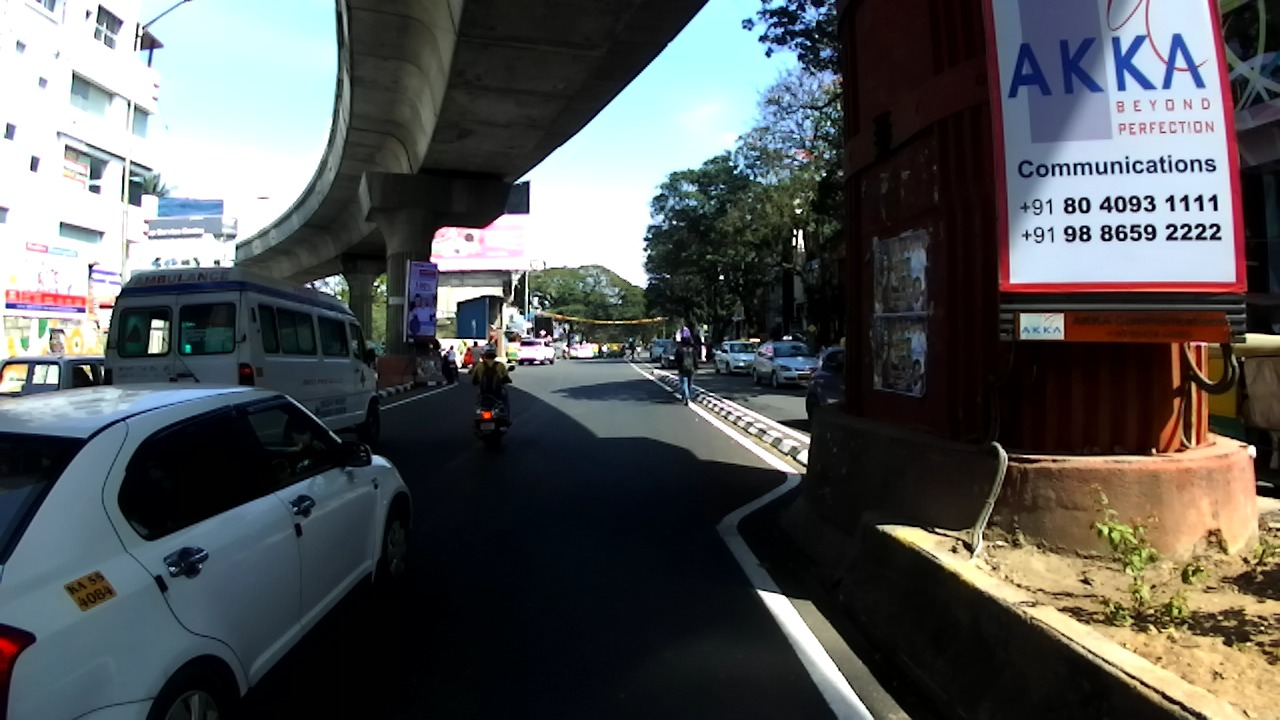autorickshaw: (1198, 334, 1278, 480), (505, 341, 521, 364), (608, 343, 620, 359), (590, 343, 600, 358)
bicycle: (637, 351, 640, 358)
bus: (104, 266, 382, 456)
car: (1, 383, 415, 719), (1, 355, 111, 408), (805, 345, 849, 432), (750, 340, 822, 389), (714, 341, 758, 376), (516, 338, 555, 366), (661, 341, 688, 370), (461, 342, 492, 367), (651, 339, 674, 363), (577, 346, 595, 360)
motorcycle: (471, 363, 515, 451), (443, 355, 459, 384)
person: (676, 336, 699, 406), (467, 341, 485, 377), (625, 339, 639, 362), (678, 336, 686, 353)
rider: (470, 344, 511, 421), (444, 344, 458, 379), (636, 344, 641, 355)
vehicle fallback: (600, 342, 610, 359), (617, 341, 627, 358), (567, 345, 579, 359), (644, 343, 651, 350)
